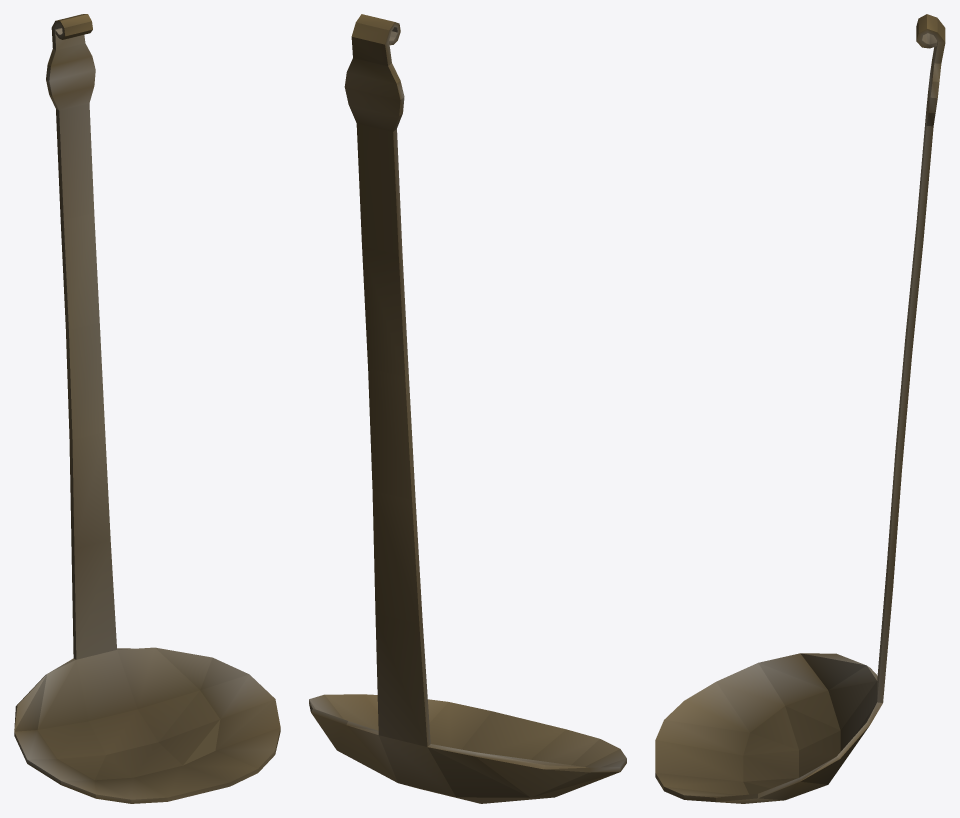
The model's file is scoop_e777b82d.glb.
3 renders of one model, left to right at view 1: azimuth 30°, elevation 25°; view 2: azimuth 150°, elevation 25°; view 3: azimuth 270°, elevation 25°, orthographic. The views are drawn at different scales.
Parts seen in each view (by area): view 1: SM_Scoop_M_Scoop_0; view 2: SM_Scoop_M_Scoop_0; view 3: SM_Scoop_M_Scoop_0.
Boxes of the visible parts, <box> form: SM_Scoop_M_Scoop_0: <box>14,14,280,803</box>; SM_Scoop_M_Scoop_0: <box>309,14,626,803</box>; SM_Scoop_M_Scoop_0: <box>655,14,945,803</box>.
Bounding box in the file's own units: 0.0979 × 0.2634 × 0.0916.
